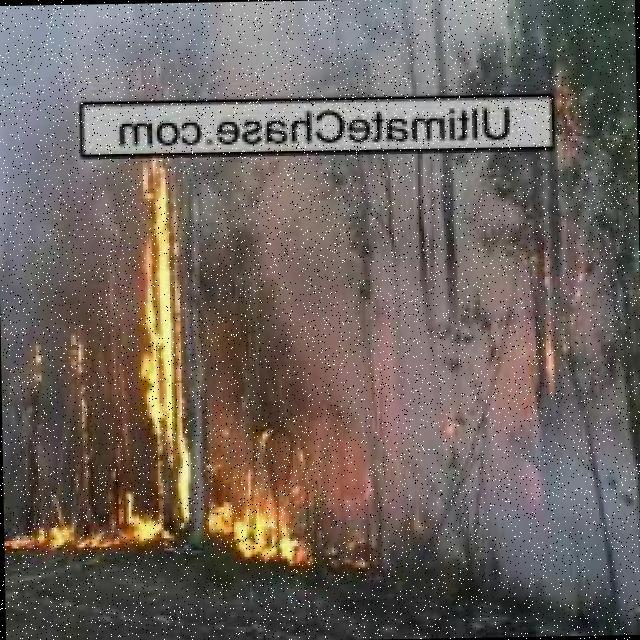Fire: (115, 137, 180, 542), (211, 444, 323, 573), (504, 319, 560, 440), (543, 74, 575, 158), (4, 524, 103, 551)
